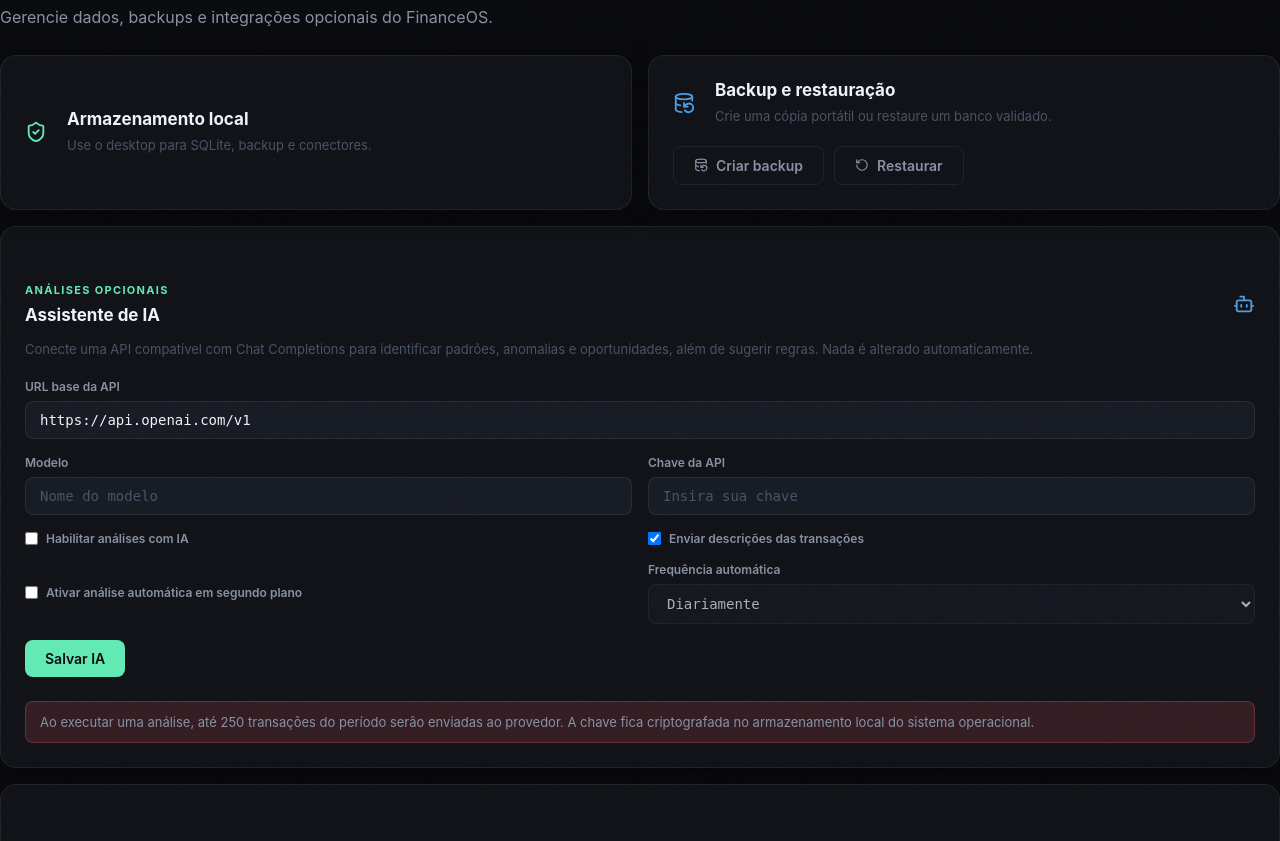
Configurações seguras e resilientes › bloqueia salvamento repetido e limpa a chave após sucesso
Type "nova-chave" into the password field labelled "Chave da API" at x=952, y=496, box [648, 477, 1255, 515]
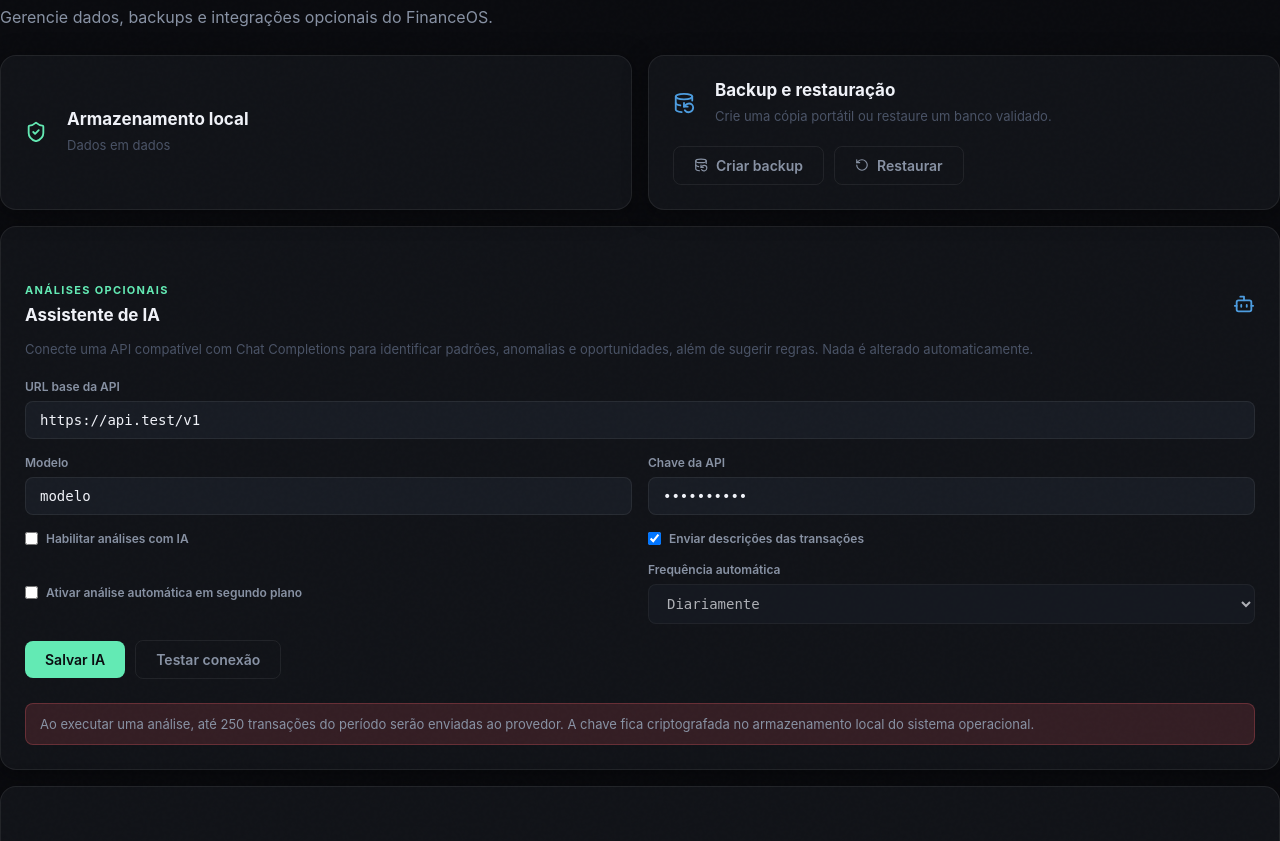
Click the button "Salvar IA" at x=75, y=659, box [25, 641, 125, 678]
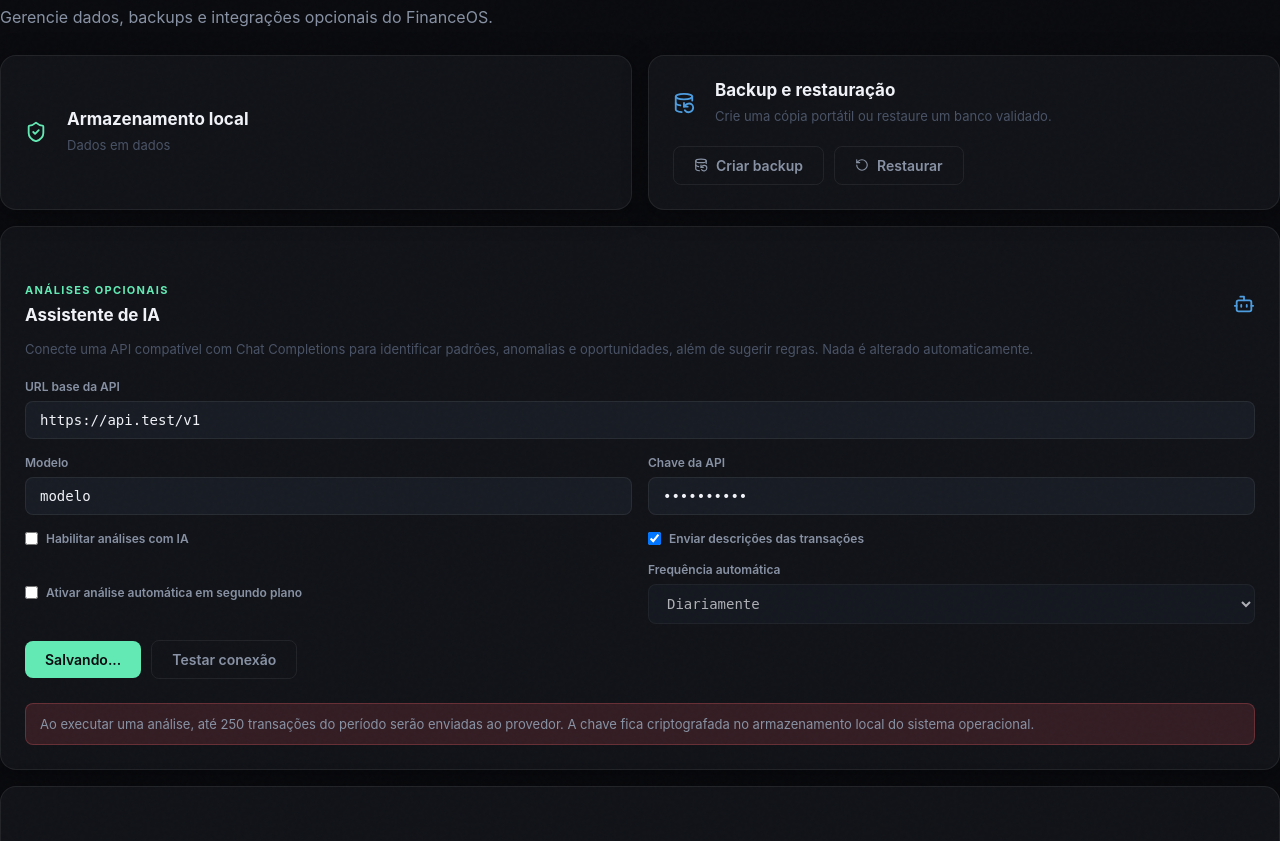
Click the button named "salvar ia" at x=83, y=659, box [25, 641, 141, 678]
(page scrolled)
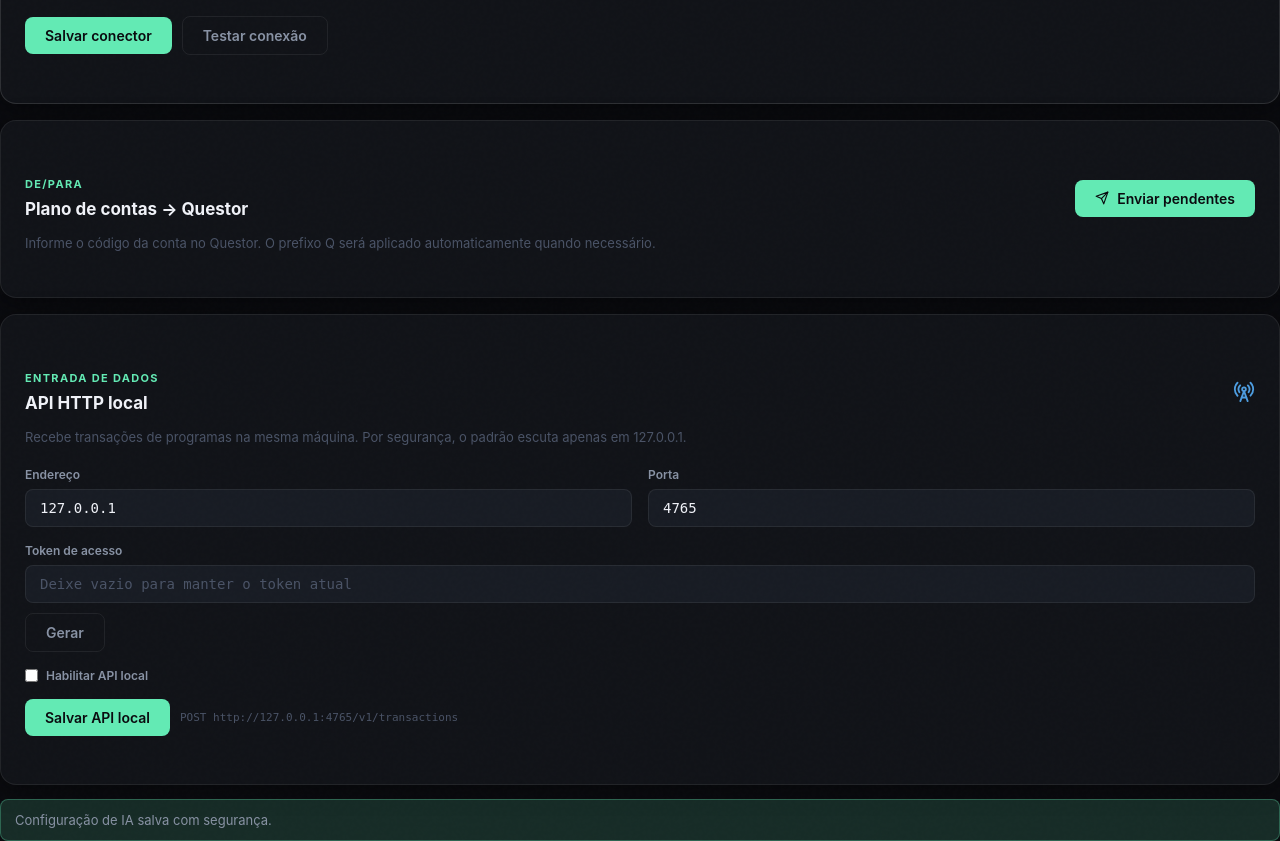
expect the message shows "salva com segurança": met, box [15, 812, 272, 828]
